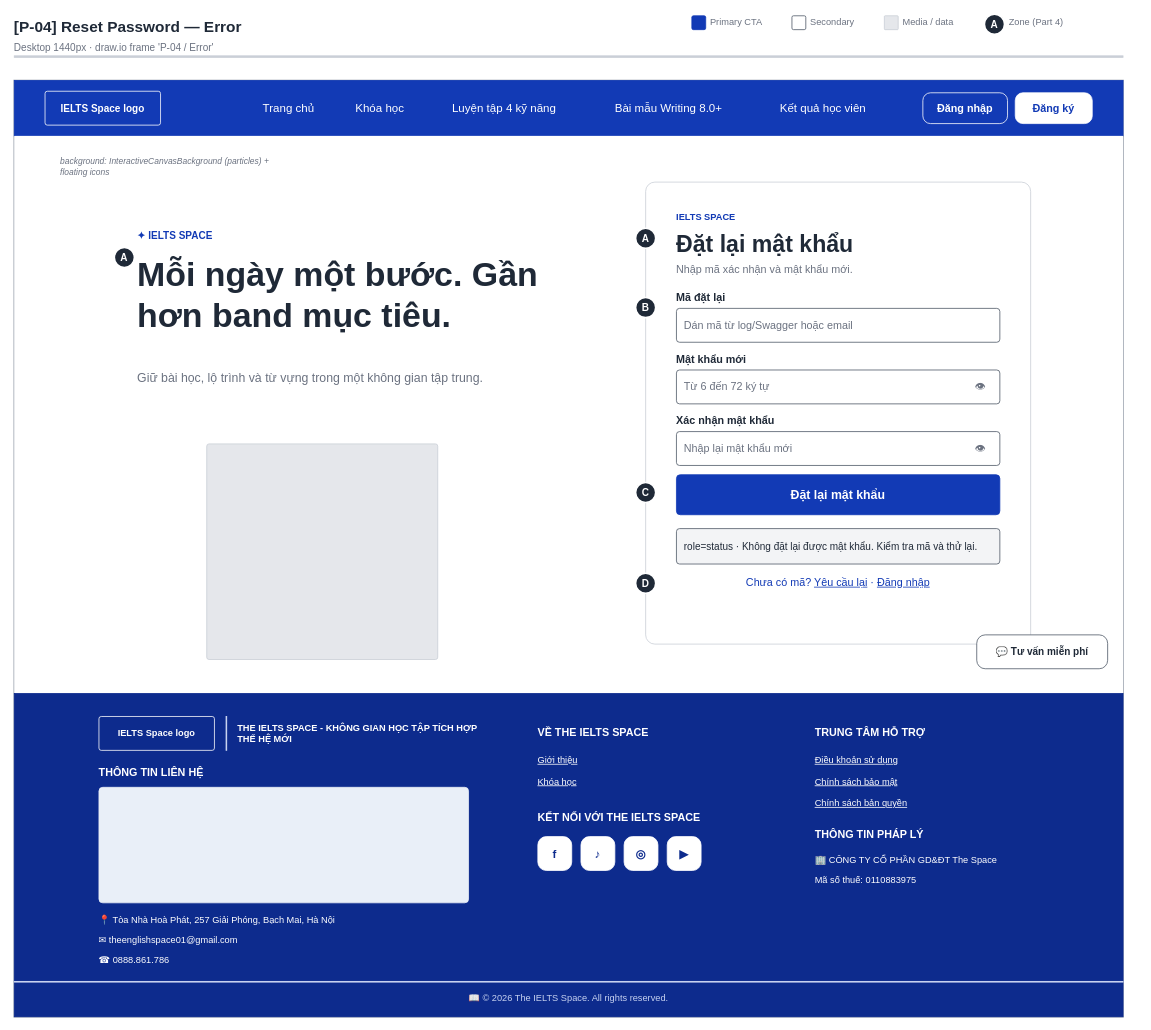
Image size: 1151x1030. Some labels were removed from this diagram. Each missing label, with the centre of its shape:
▨ Mascot ClassMascot (lg): [322,551]
📍 The IELTS Space Mở trong Maps ↗: [283,845]
